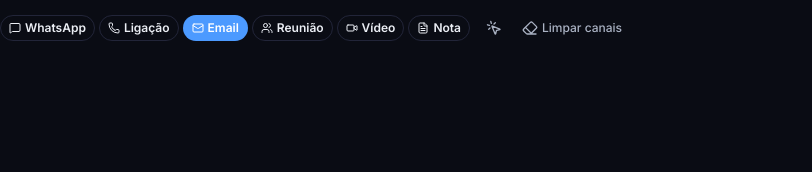
CanaisQuickFilter › manual mode: Limpar canais clears pending without calling onChange
Click the button with aria-label "Limpar seleção de canais" at (572, 28), box [514, 14, 630, 42]
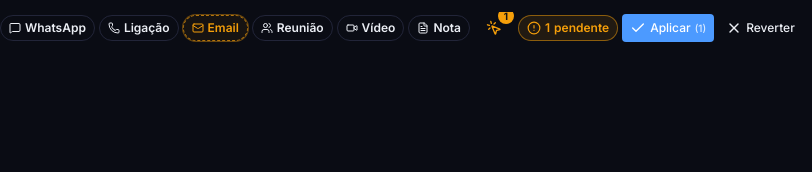
Expected: the button "Aplicar (1)" is shown, [622, 14, 714, 42]
